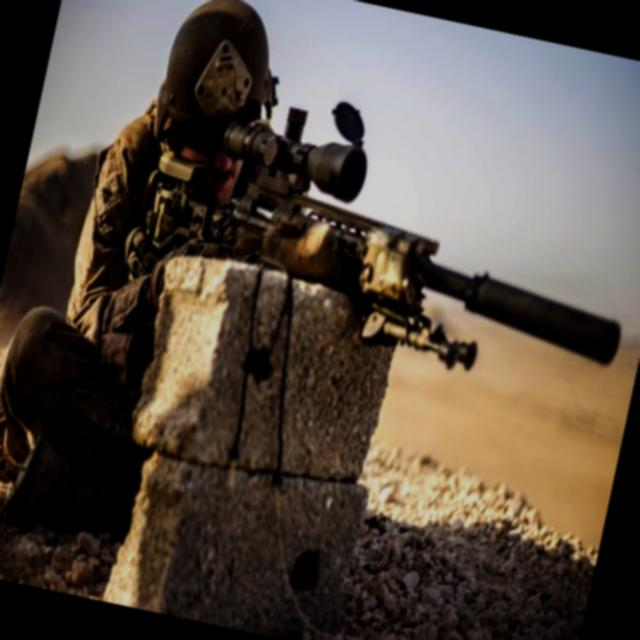rifle: (127, 67, 640, 400)
